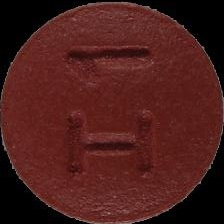68788-6320: (0, 0, 224, 224)
